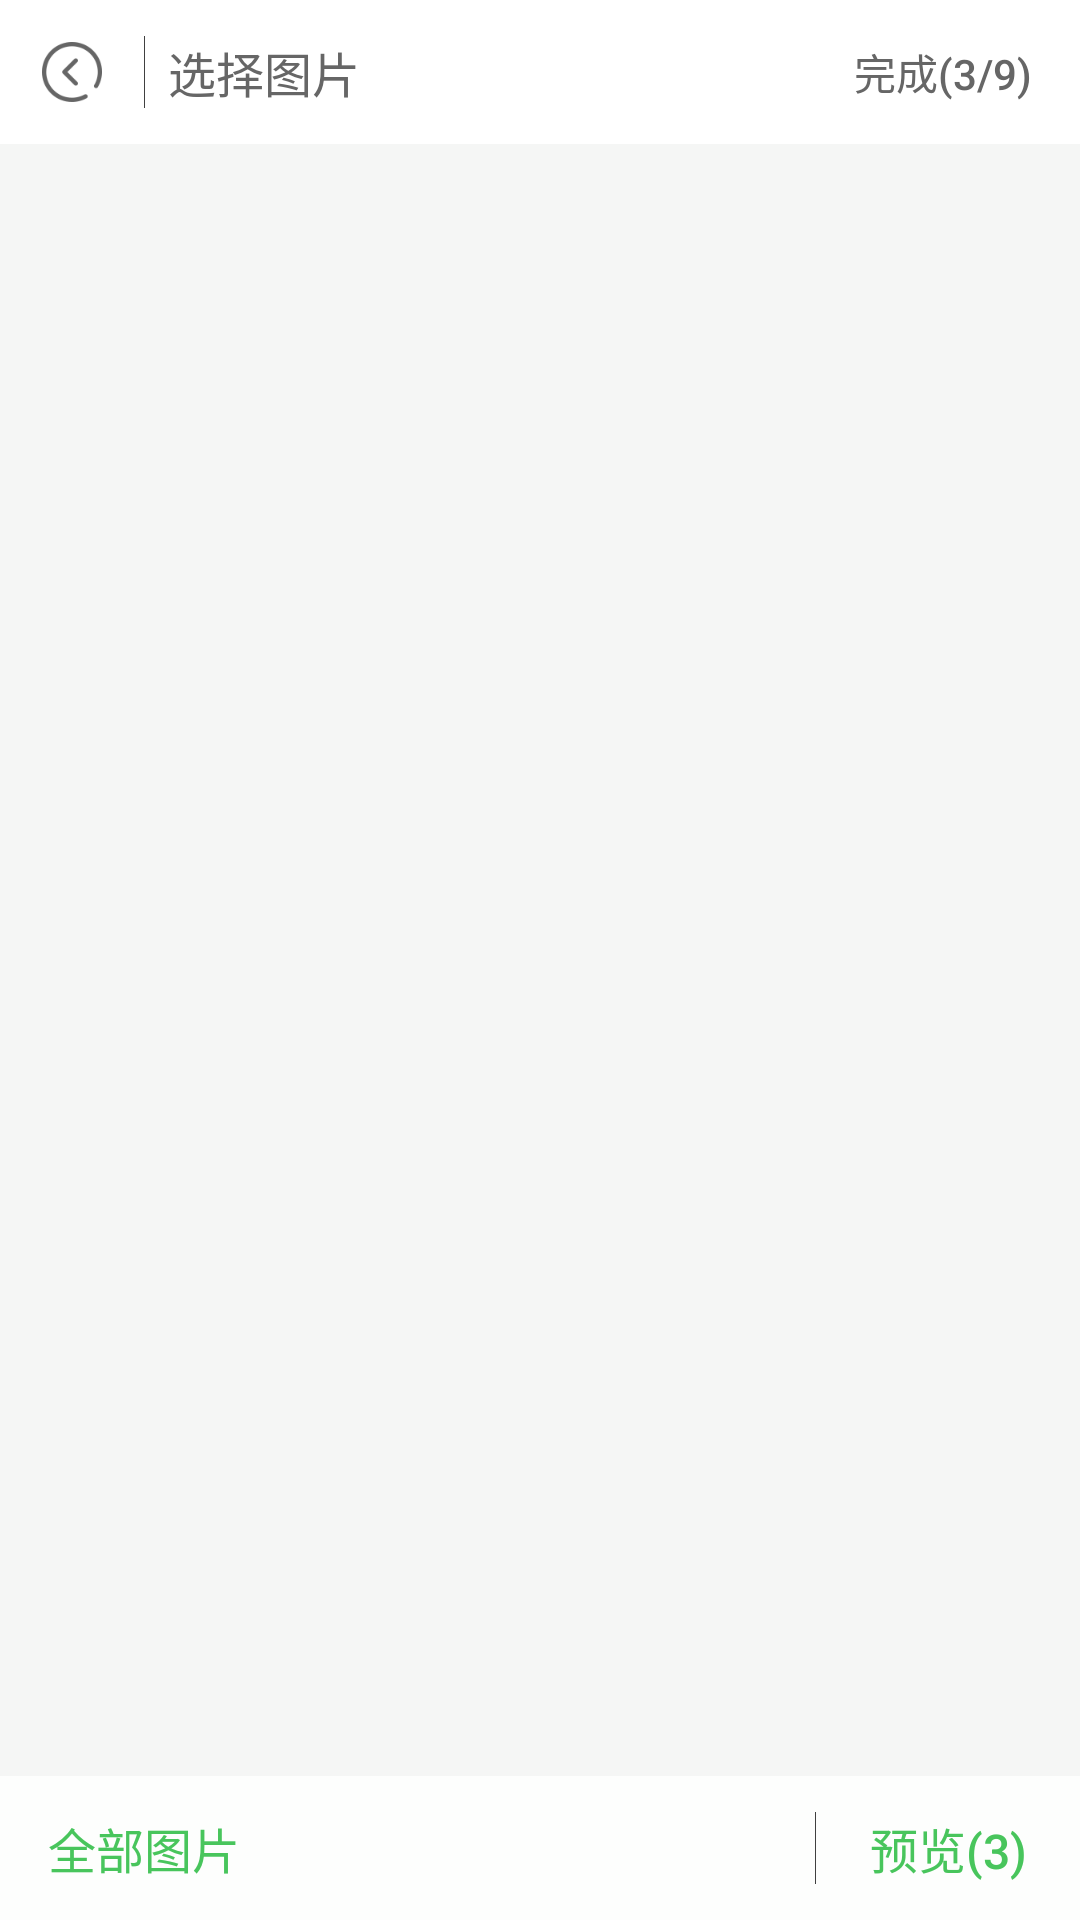

Named icons in this screenshot (1080 x 1920) and their centers, (x=x, y=y):
back arrow: (x=72, y=72)
